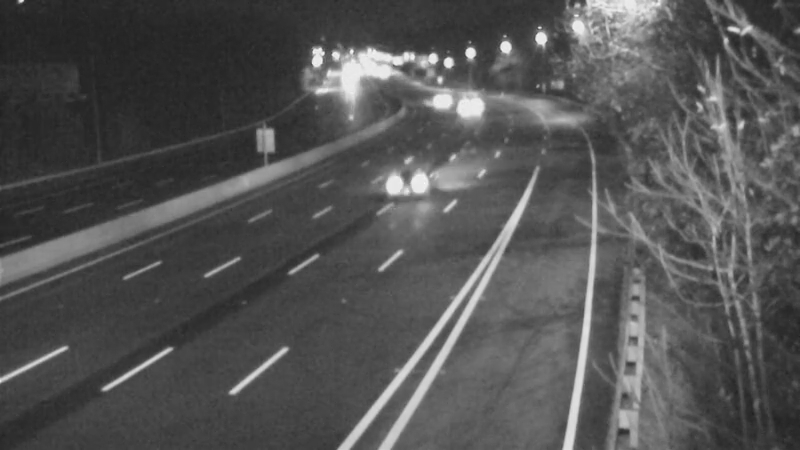vehicle: (374, 140, 454, 220), (412, 72, 462, 122), (448, 77, 498, 127)
